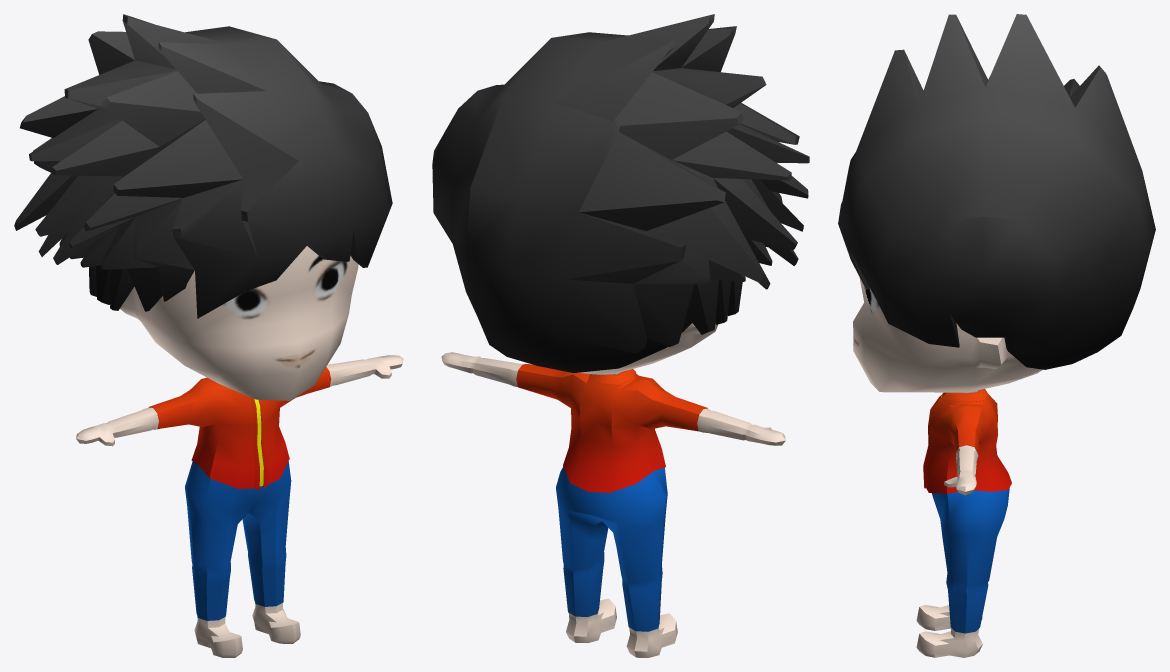
File: Char_COWOK_001.fbx
3 renders of one model, left to right at view 1: azimuth 30°, elevation 25°; view 2: azimuth 150°, elevation 25°; view 3: azimuth 270°, elevation 25°, orthographic. The views are drawn at different scales.
Parts seen in each view (by area): view 1: Char 1.007, Char 1.006, Char 1.009, Char 1.008; view 2: Char 1.007, Char 1.008, Char 1.009, Char 1.006; view 3: Char 1.007, Char 1.006, Char 1.009, Char 1.008.
Part boxes in pixels (box(x1,y1,x2,y2)): Char 1.007: box(14, 14, 392, 318); Char 1.006: box(76, 246, 403, 657); Char 1.009: box(185, 461, 291, 620); Char 1.008: box(148, 367, 331, 490); Char 1.007: box(432, 14, 809, 372); Char 1.008: box(516, 364, 707, 492); Char 1.009: box(556, 467, 667, 631); Char 1.006: box(441, 323, 785, 657); Char 1.007: box(838, 14, 1155, 369); Char 1.006: box(853, 277, 1042, 657); Char 1.009: box(931, 487, 1009, 633); Char 1.008: box(923, 389, 1011, 493).
Bounding box in the file's own units: 898 × 1499 × 738.
2 materials, 2 textured.
